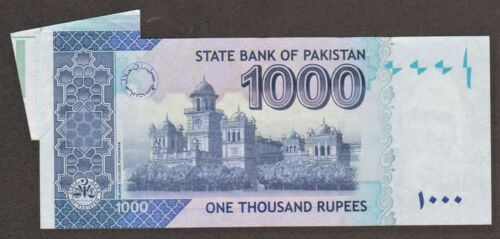1000 rupee: (44, 32, 486, 223)
